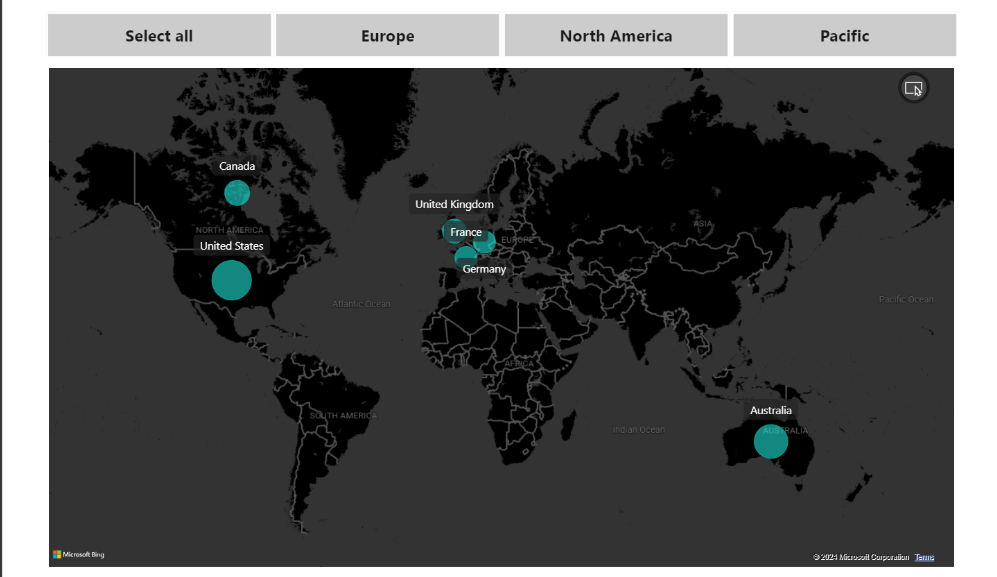

What the dashboard file says about the page in this screenshot:
{"tool":"powerbi","page":{"name":"Map","canvas":[1280,720],"ordinal":1},"visuals":[{"type":"shape","box":[0,0,44.9,720.5],"z":0},{"type":"map","fields":{"Category":["Territory Lookup.Country"],"Size":["Measure Table.Total Orders"]},"box":[45.3,79.6,1235,640.8],"z":1000},{"type":"slicer","fields":{"Values":["Territory Lookup.Continent"]},"box":[45.3,2.7,1235,76.8],"z":2000},{"type":"actionButton","box":[0,503.8,44.8,39.8],"z":3000},{"type":"actionButton","box":[0,451.6,44.8,39.8],"z":4000},{"type":"actionButton","box":[0,556,44.8,39.8],"z":5000},{"type":"actionButton","box":[0,602.1,44.8,39.8],"z":6000}]}

Visuals, with their boxes in screenshot pixels (x1, y1, x2, y2), scaled from the page's 1280x720 canvas onto the 997x577 screenshot:
shape: (0,0,35,576)
map - Territory Lookup.Country x Measure Table.Total Orders: (35,64,996,576)
slicer - Territory Lookup.Continent: (35,2,996,64)
actionButton: (0,404,35,436)
actionButton: (0,362,35,394)
actionButton: (0,446,35,477)
actionButton: (0,483,35,514)
